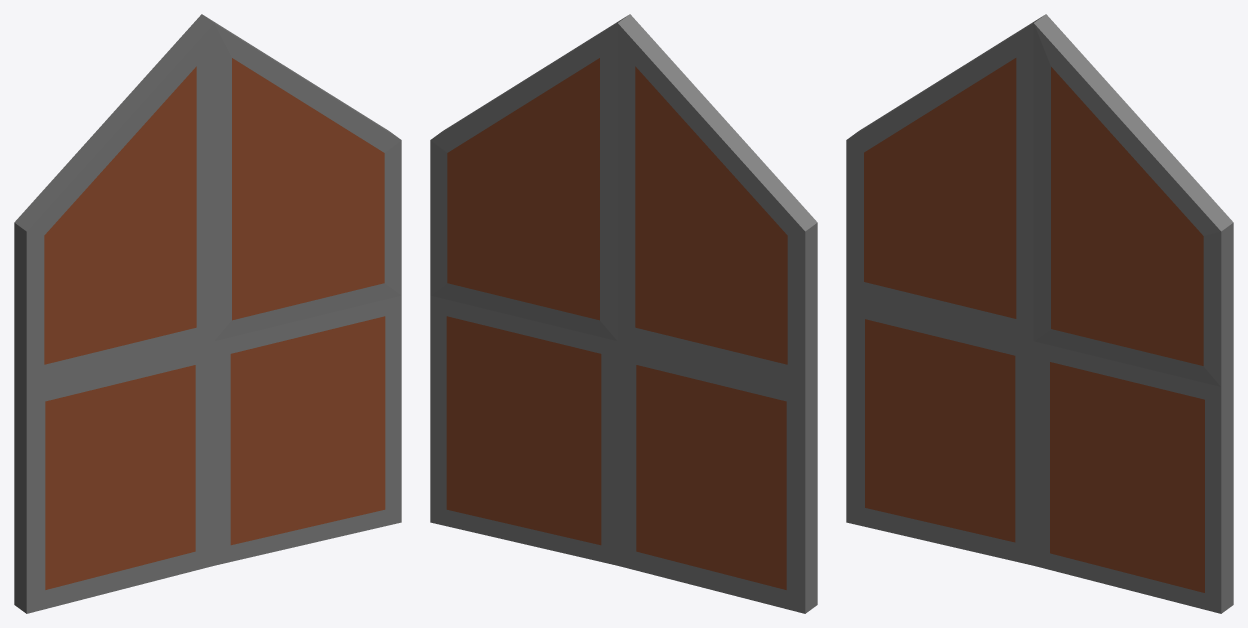
The model's file is WoodDoor.fbx.
3 renders of one model, left to right at view 1: azimuth 30°, elevation 25°; view 2: azimuth 150°, elevation 25°; view 3: azimuth 330°, elevation 25°, orthographic.
Parts seen in each view (by area): view 1: Door; view 2: Door; view 3: Door.
Boxes of the visible parts, x1,y1,x2,y2 form: Door: [14, 14, 401, 613]; Door: [430, 14, 817, 613]; Door: [846, 14, 1233, 613].
Bounding box in the file's own units: 440 × 612 × 26.51.
